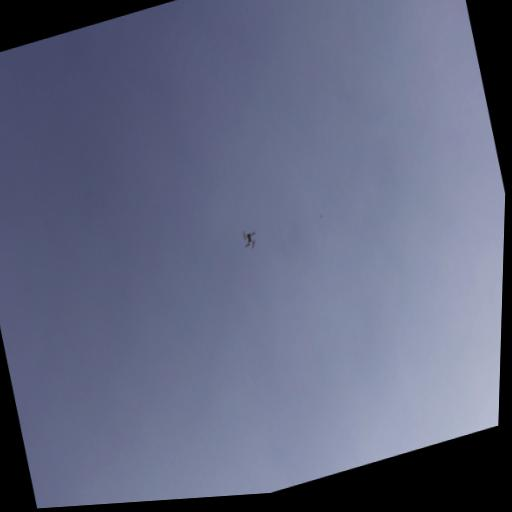drones: (241, 226, 259, 251)
